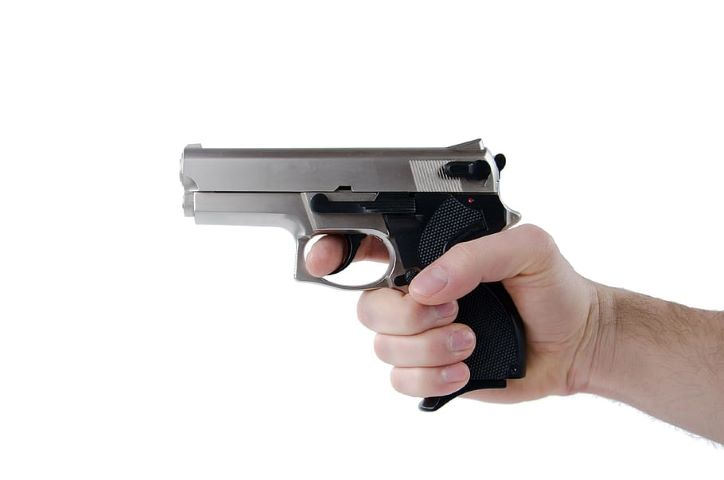knife: (170, 140, 529, 406)
